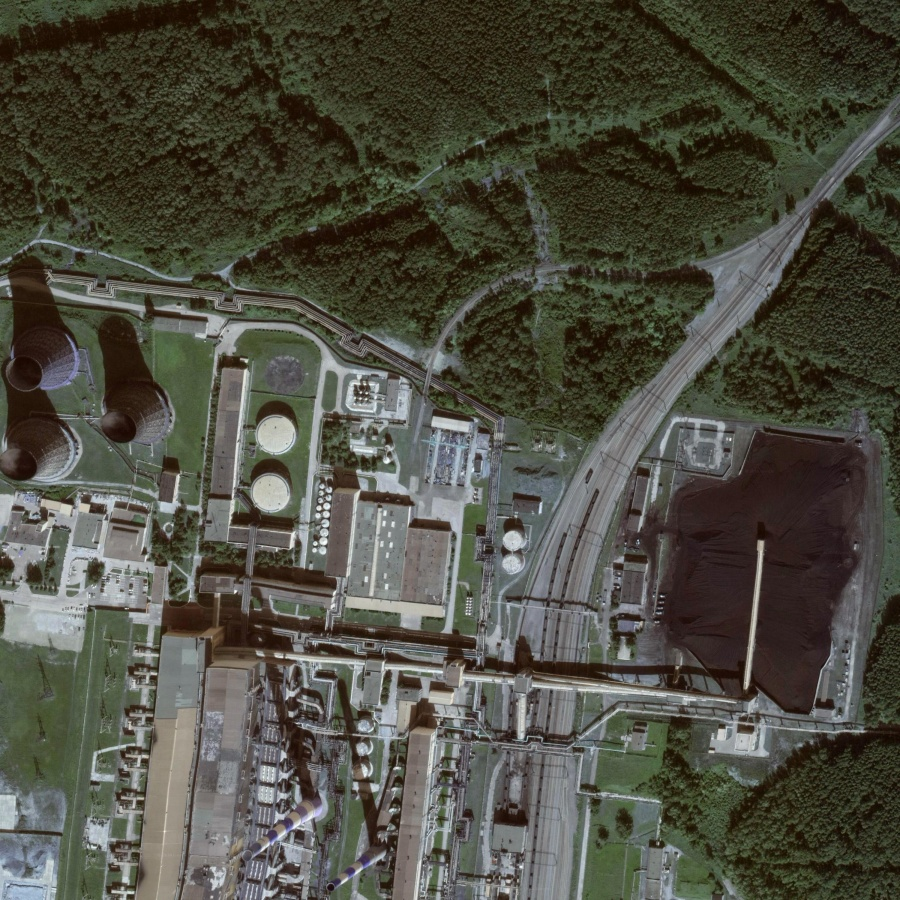PowerPlant: (597, 410, 867, 724)
